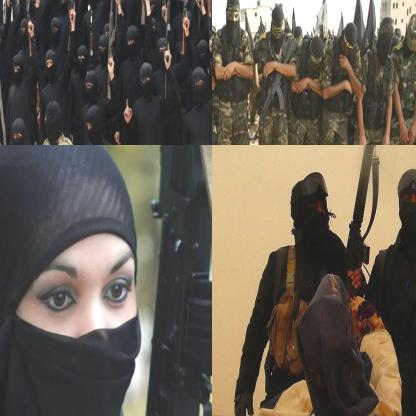rifle: (137, 145, 211, 415), (339, 145, 388, 281), (254, 37, 298, 144), (178, 0, 193, 59), (0, 36, 8, 125), (203, 0, 211, 67)
